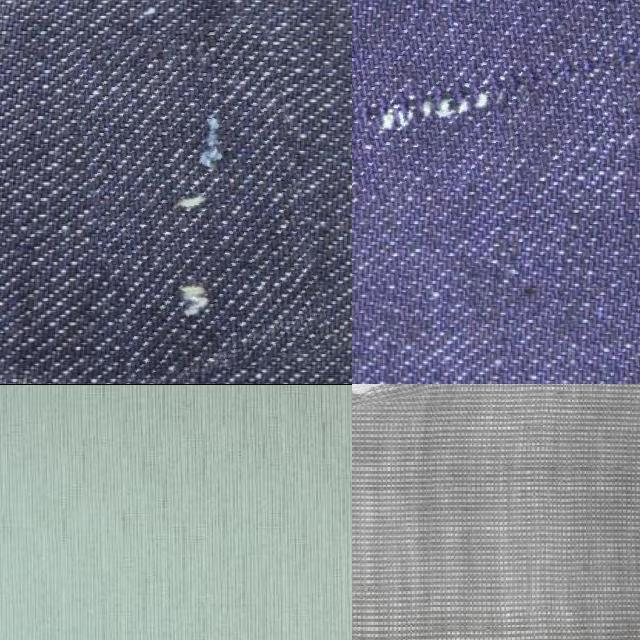Thread_other: (81, 20, 317, 378), (352, 0, 640, 216)
seam: (352, 384, 430, 407)
